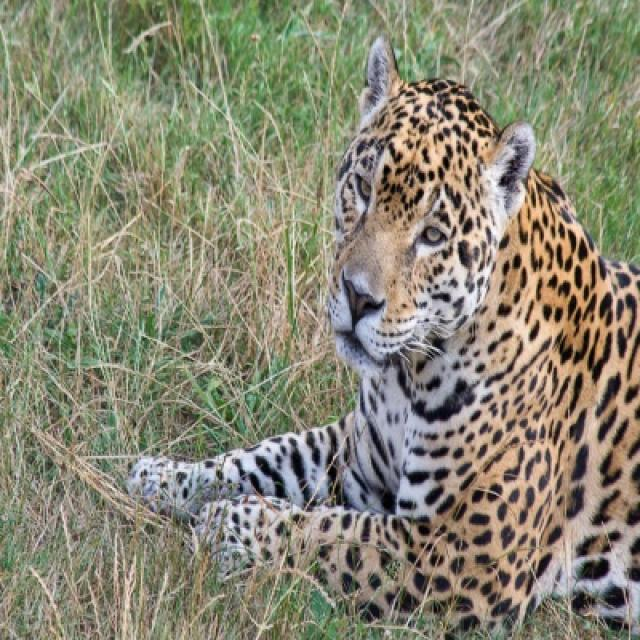Jaguar: (126, 35, 638, 638)
